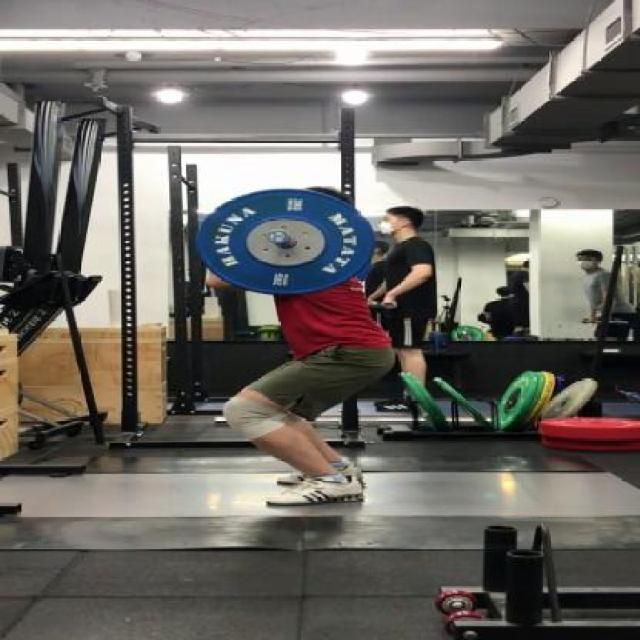barbell: (192, 182, 395, 300)
